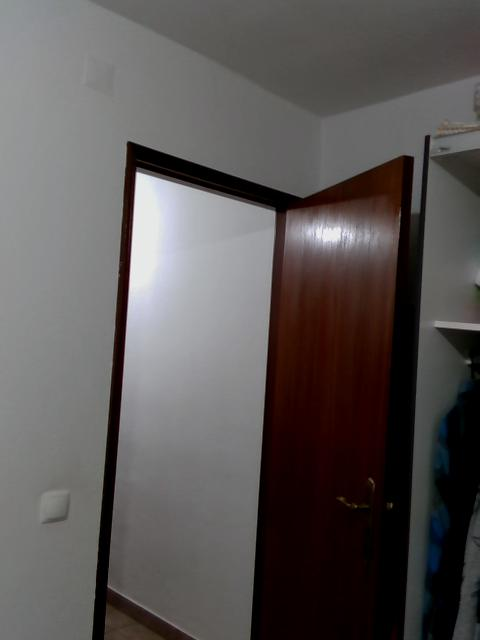open_door: (90, 136, 318, 639)
